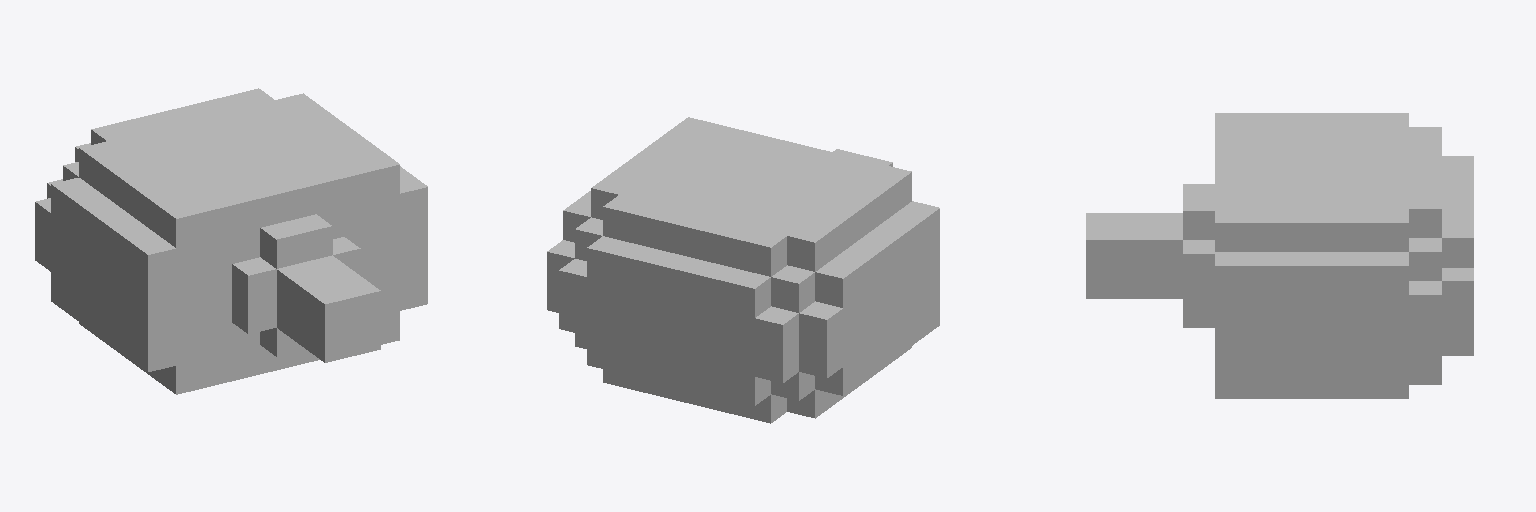
The model's file is turret_head.obj.
The picture shows the model from 3 angles: view 1: azimuth 30°, elevation 25°; view 2: azimuth 150°, elevation 25°; view 3: azimuth 270°, elevation 25°; orthographic projection.
Parts seen in each view (by area): view 1: object 1; view 2: object 1; view 3: object 1.
Boxes of the visible parts, x1,y1,x2,y2 form: object 1: [35, 88, 427, 394]; object 1: [547, 117, 939, 423]; object 1: [1086, 113, 1473, 398].
Bounding box in the file's own units: 1 × 0.6 × 1.2.